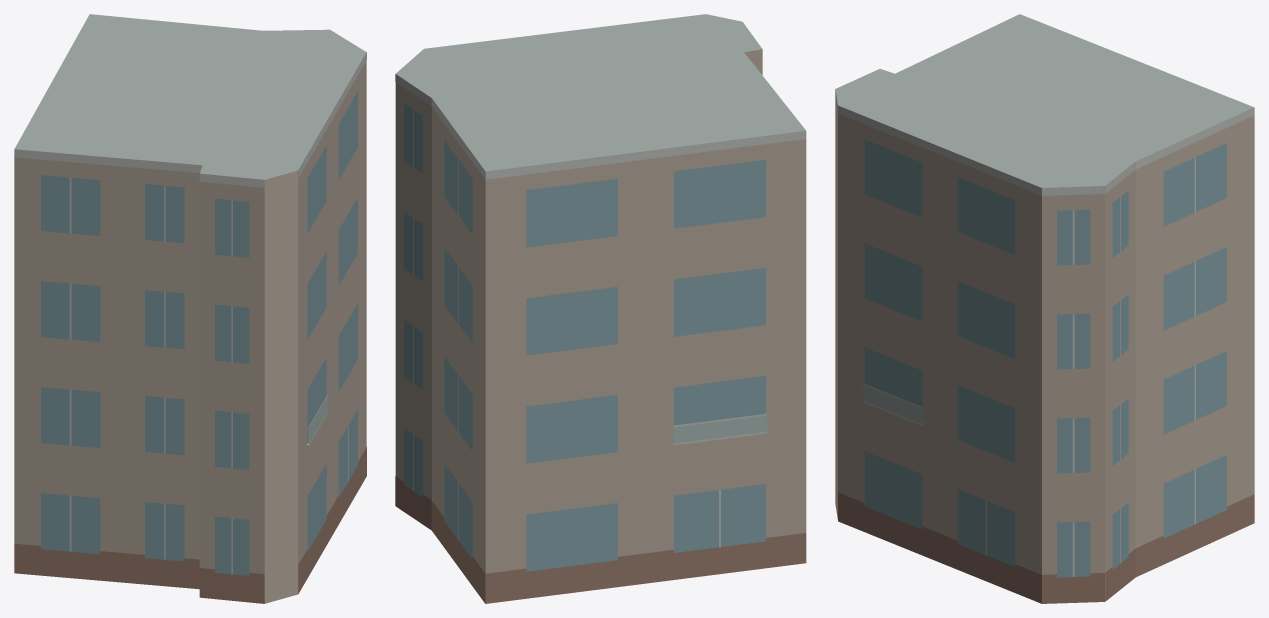
The model's file is survey-upis-32965236.glb.
3 views of the same model, side by side, from view 1: azimuth 30°, elevation 25°; view 2: azimuth 150°, elevation 25°; view 3: azimuth 270°, elevation 25° (orthographic). The views are drawn at different scales.
Parts seen in each view (by area): view 1: survey-upis-32965236.tmp; view 2: survey-upis-32965236.tmp; view 3: survey-upis-32965236.tmp.
Part boxes in pixels (x1=…): survey-upis-32965236.tmp: x1=14, y1=14, x2=366, y2=603; survey-upis-32965236.tmp: x1=395, y1=14, x2=806, y2=603; survey-upis-32965236.tmp: x1=835, y1=14, x2=1254, y2=603.
Bounding box in the file's own units: 11.5 × 12.8 × 11.7.
